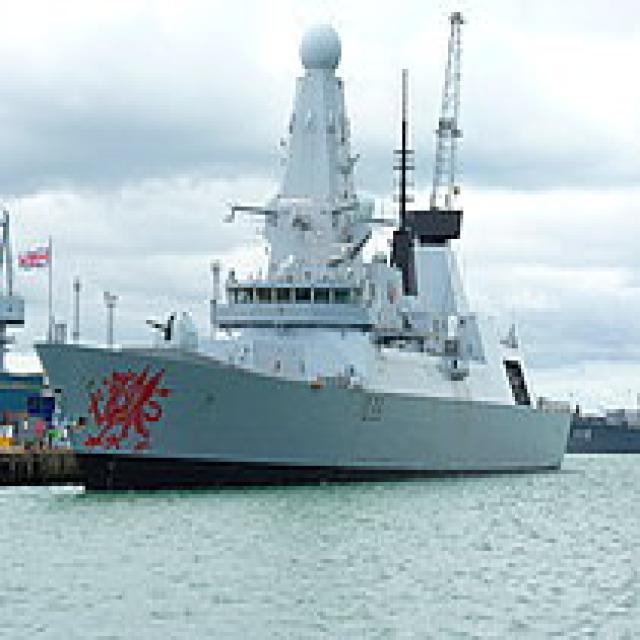Warship: (30, 16, 573, 486)
